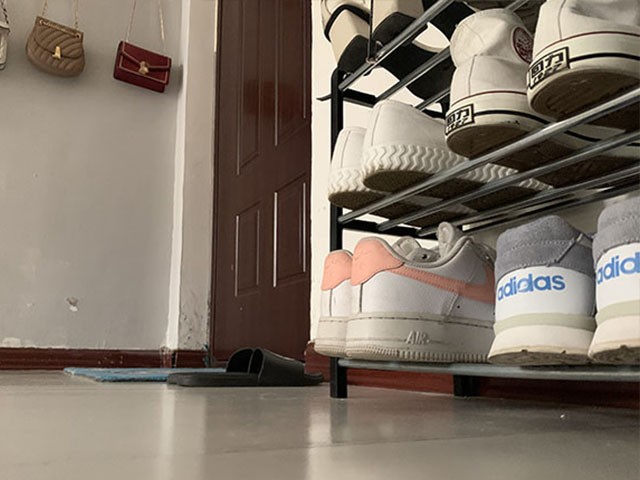carpet: (60, 364, 252, 383)
slippers: (164, 345, 324, 389)
